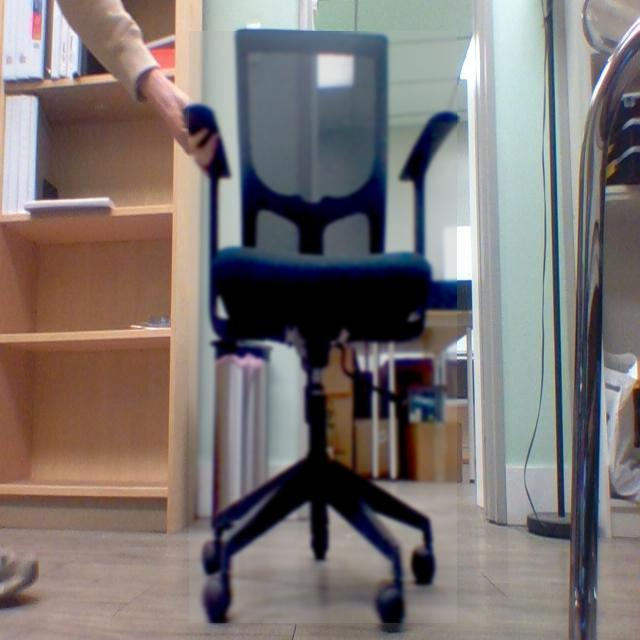chair: (194, 17, 475, 637)
